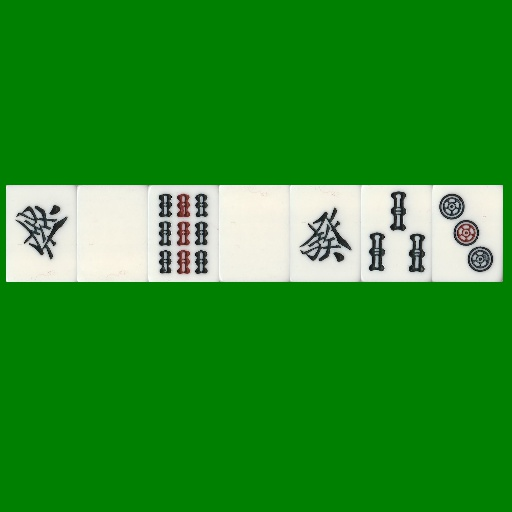3p: (432, 185, 503, 282)
3s: (361, 185, 432, 282)
9s: (148, 185, 219, 282)
hatsu: (6, 185, 77, 282), (290, 185, 361, 282)
white: (77, 185, 148, 282), (219, 185, 290, 282)
